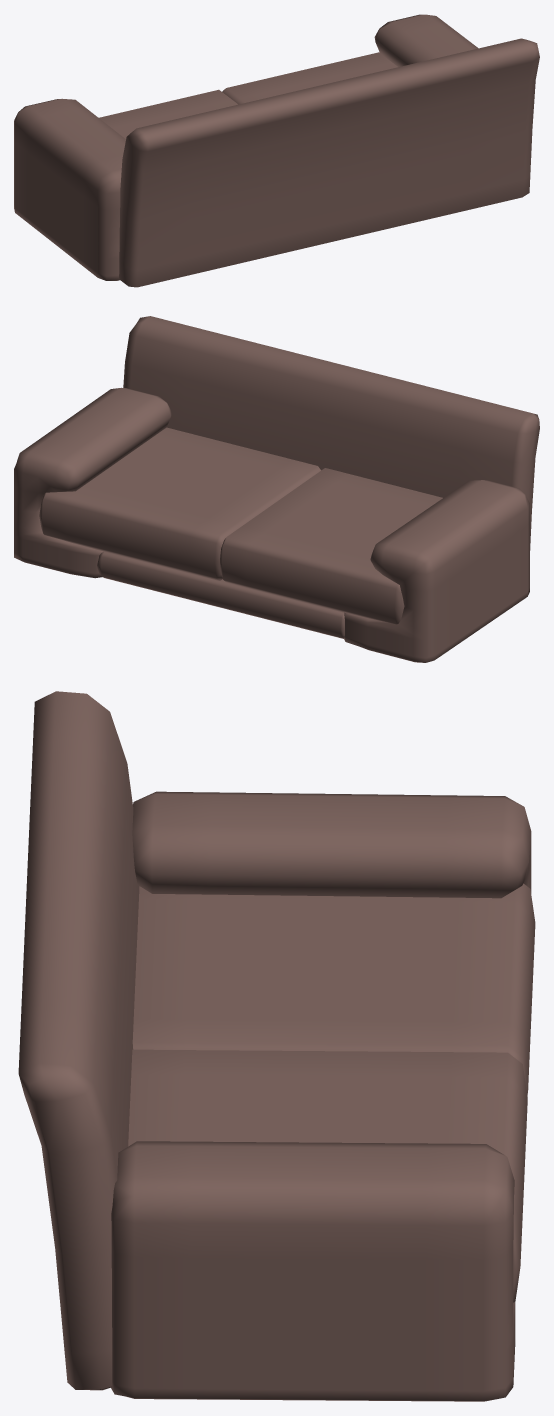
The model's file is sofa.fbx.
3 renders of one model, top to bottom at view 1: azimuth 30°, elevation 25°; view 2: azimuth 150°, elevation 25°; view 3: azimuth 270°, elevation 25°, orthographic. The views are drawn at different scales.
Parts seen in each view (by area): view 1: pCube13, pCube12, pCube11, pCube10, pCube9; view 2: pCube13, pCube10, pCube12, pCube9, pCube11, pCube8; view 3: pCube11, pCube9, pCube13, pCube12, pCube10.
Part boxes in pixels (x1=…): pCube13: x1=119, y1=38, x2=539, y2=287; pCube12: x1=14, y1=98, x2=125, y2=280; pCube11: x1=374, y1=14, x2=478, y2=66; pCube10: x1=222, y1=52, x2=397, y2=104; pCube9: x1=99, y1=89, x2=237, y2=138; pCube13: x1=123, y1=316, x2=539, y2=550; pCube10: x1=39, y1=427, x2=320, y2=580; pCube12: x1=344, y1=480, x2=529, y2=662; pCube9: x1=220, y1=468, x2=442, y2=624; pCube11: x1=14, y1=387, x2=171, y2=578; pCube8: x1=97, y1=551, x2=344, y2=638; pCube11: x1=111, y1=1141, x2=515, y2=1401; pCube9: x1=132, y1=883, x2=535, y2=1095; pCube13: x1=18, y1=691, x2=139, y2=1390; pCube12: x1=132, y1=791, x2=531, y2=898; pCube10: x1=128, y1=1049, x2=527, y2=1302.
Size of the model in its own units: 32.03 by 11.63 by 16.91.
